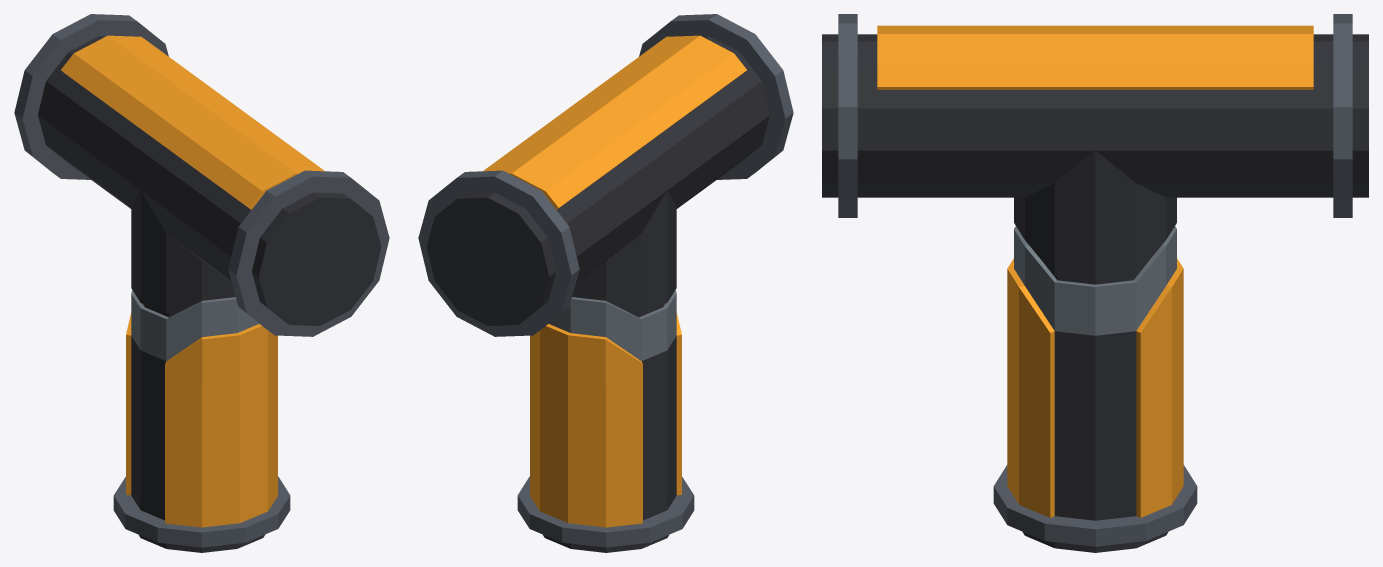
The model's file is SM_T-shaped_water_pipe.glb.
3 views of the same model, side by side, from view 1: azimuth 30°, elevation 25°; view 2: azimuth 150°, elevation 25°; view 3: azimuth 270°, elevation 25° (orthographic). The views are drawn at different scales.
Parts seen in each view (by area): view 1: SM_T-shaped_water_pipe; view 2: SM_T-shaped_water_pipe; view 3: SM_T-shaped_water_pipe.
Boxes of the visible parts, x1,y1,x2,y2 form: SM_T-shaped_water_pipe: (14, 14, 389, 552); SM_T-shaped_water_pipe: (418, 14, 793, 552); SM_T-shaped_water_pipe: (822, 14, 1368, 552).
Bounding box in the file's own units: 0.7487 × 2 × 2.
1 material, 1 textured.
